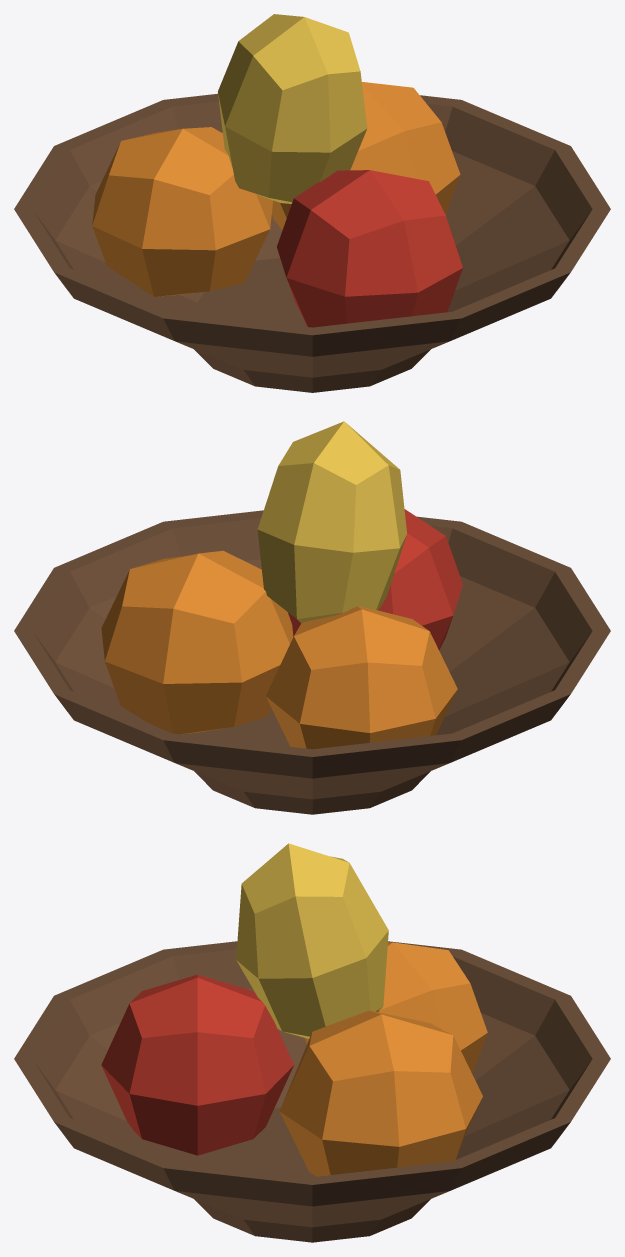
Rendered from Frutas.fbx.
The picture shows the model from 3 angles, top to bottom: view 1: azimuth 30°, elevation 25°; view 2: azimuth 150°, elevation 25°; view 3: azimuth 270°, elevation 25°; orthographic projection.
Parts seen in each view (by area): view 1: Deco_Frutero; view 2: Deco_Frutero; view 3: Deco_Frutero.
Boxes of the visible parts, x1,y1,x2,y2 form: Deco_Frutero: (14,14,610,392); Deco_Frutero: (14,421,610,814); Deco_Frutero: (14,843,610,1242).
Size of the model in its own units: 0.26 by 0.1639 by 0.26.
